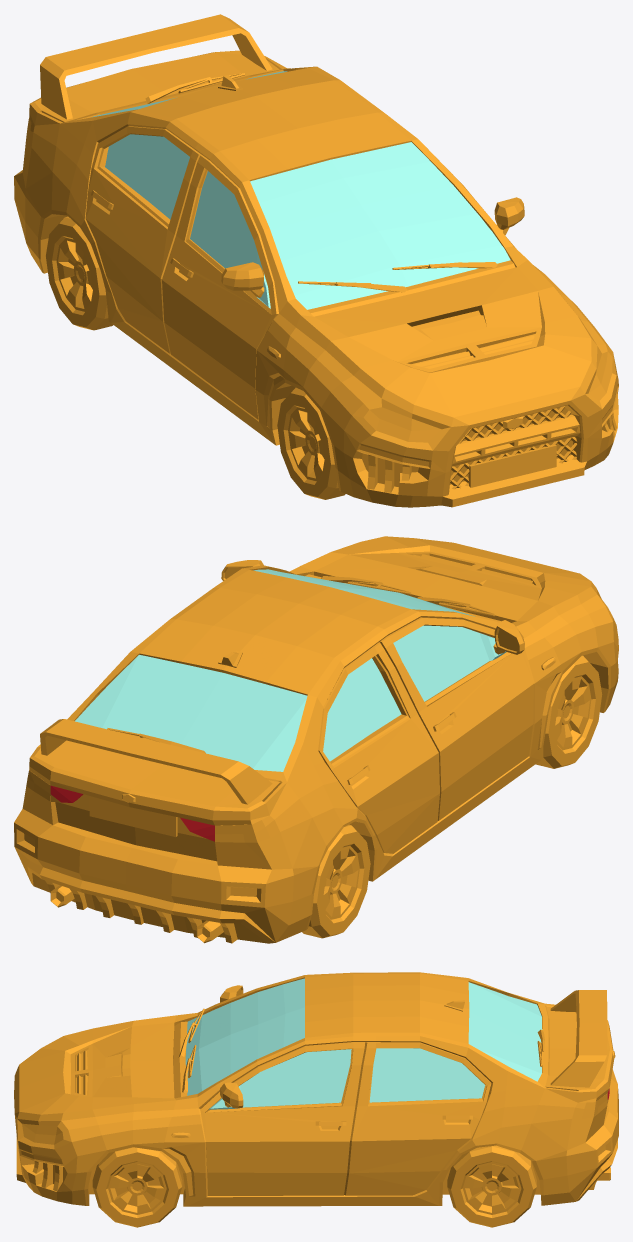
Rendered from car-sport-modern.fbx.
The picture shows the model from 3 angles, top to bottom: view 1: azimuth 30°, elevation 25°; view 2: azimuth 150°, elevation 25°; view 3: azimuth 270°, elevation 25°; orthographic projection. The views are drawn at different scales.
Parts seen in each view (by area): view 1: car-sport-modern-base, car-sport-modern-door-rfr, car-sport-modern-door-rba, car-sport-modern-trunk, car-sport-modern-wheel-rba, car-sport-modern-wheel-rfr, car-sport-modern-door-lfr; view 2: car-sport-modern-base, car-sport-modern-trunk, car-sport-modern-door-rfr, car-sport-modern-door-rba, car-sport-modern-wheel-rba, car-sport-modern-wheel-rfr; view 3: car-sport-modern-base, car-sport-modern-door-lfr, car-sport-modern-door-lba, car-sport-modern-trunk, car-sport-modern-wheel-lba, car-sport-modern-wheel-lfr.
Boxes of the visible parts, x1,y1,x2,y2 form: car-sport-modern-base: (14,56,618,507); car-sport-modern-door-rfr: (162,155,278,419); car-sport-modern-door-rba: (85,126,201,353); car-sport-modern-trunk: (29,14,279,125); car-sport-modern-wheel-rba: (46,216,112,330); car-sport-modern-wheel-rfr: (277,387,345,499); car-sport-modern-door-lfr: (451,173,524,248); car-sport-modern-base: (14,536,618,943); car-sport-modern-trunk: (29,719,280,861); car-sport-modern-door-rfr: (380,617,533,820); car-sport-modern-door-rba: (318,642,439,853); car-sport-modern-wheel-rba: (302,824,370,938); car-sport-modern-wheel-rfr: (535,655,602,768); car-sport-modern-base: (14,972,618,1206); car-sport-modern-door-lfr: (200,1042,365,1195); car-sport-modern-door-lba: (344,1042,491,1195); car-sport-modern-trunk: (546,990,615,1103); car-sport-modern-wheel-lba: (447,1145,536,1227); car-sport-modern-wheel-lfr: (92,1147,182,1227).
Bounding box in the file's own units: 2.23 × 1.65 × 5.05.
